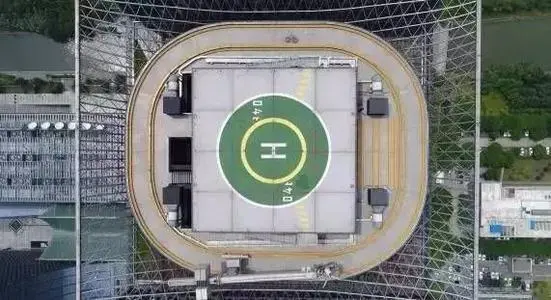Apron: (240, 119, 307, 183)
